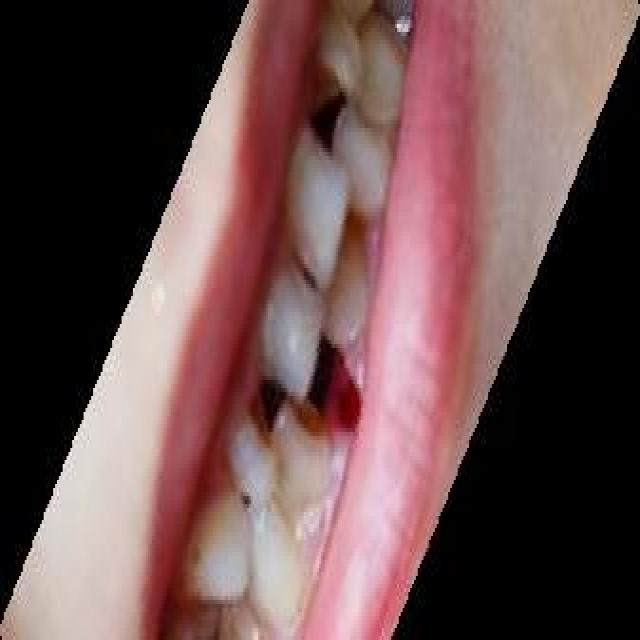caries: (308, 53, 352, 130), (288, 371, 326, 449), (238, 379, 276, 451)
